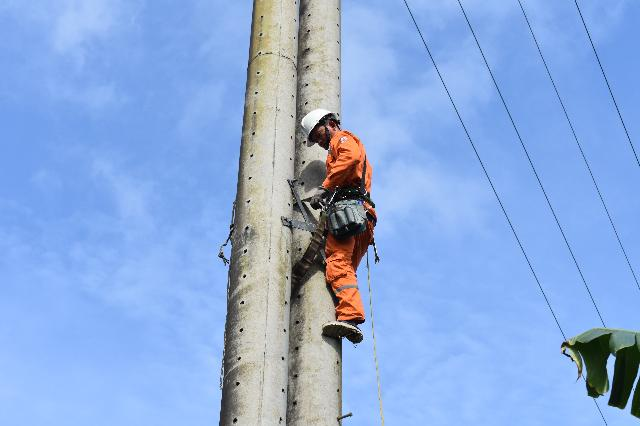gloves: (298, 180, 330, 215)
harness: (322, 182, 386, 219)
helmet: (300, 105, 339, 151)
shoes: (319, 312, 374, 353)
